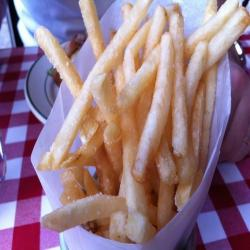fries: (47, 23, 226, 237)
